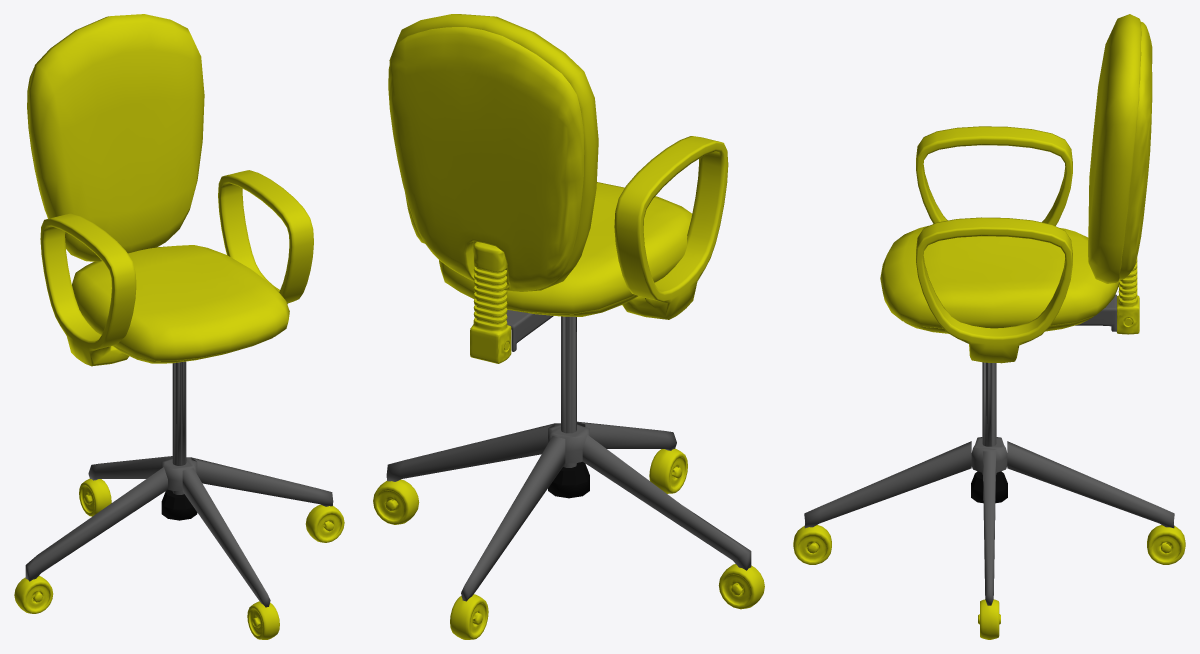
File: chair-high-yellow.obj
3 views of the same model, side by side, from view 1: azimuth 30°, elevation 25°; view 2: azimuth 150°, elevation 25°; view 3: azimuth 270°, elevation 25° (orthographic). The views are drawn at different scales.
Visible parts, largest first — view 1: chair-high_Material.033, chair-high_Material.034, chair-high_Material.001; view 2: chair-high_Material.033, chair-high_Material.034, chair-high_Material.001; view 3: chair-high_Material.033, chair-high_Material.034, chair-high_Material.001.
Part boxes in pixels (x1,y1,x2,y2): chair-high_Material.033: [14, 14, 344, 639]; chair-high_Material.034: [25, 361, 333, 607]; chair-high_Material.001: [161, 490, 197, 520]; chair-high_Material.033: [373, 14, 764, 639]; chair-high_Material.034: [386, 310, 751, 601]; chair-high_Material.001: [548, 461, 589, 498]; chair-high_Material.033: [793, 14, 1185, 639]; chair-high_Material.034: [804, 294, 1174, 605]; chair-high_Material.001: [971, 471, 1007, 503].
Bounding box in the file's own units: 38.33 × 57.99 × 38.33.
